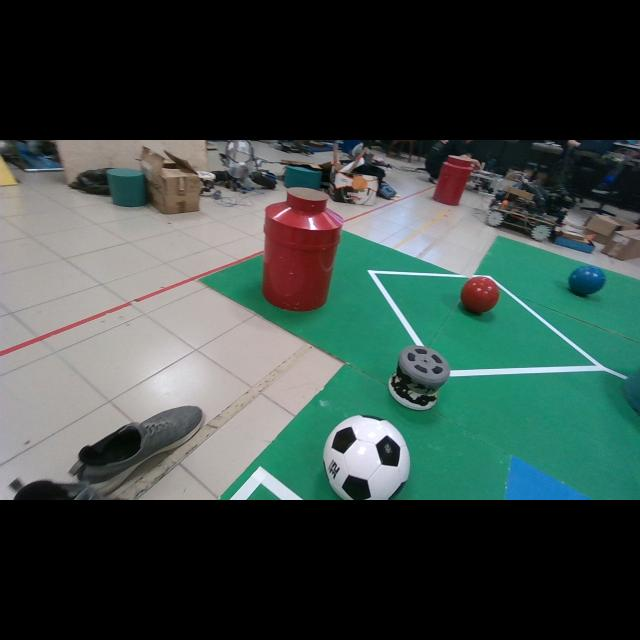B: (569, 265, 606, 296)
R: (461, 276, 499, 314)
